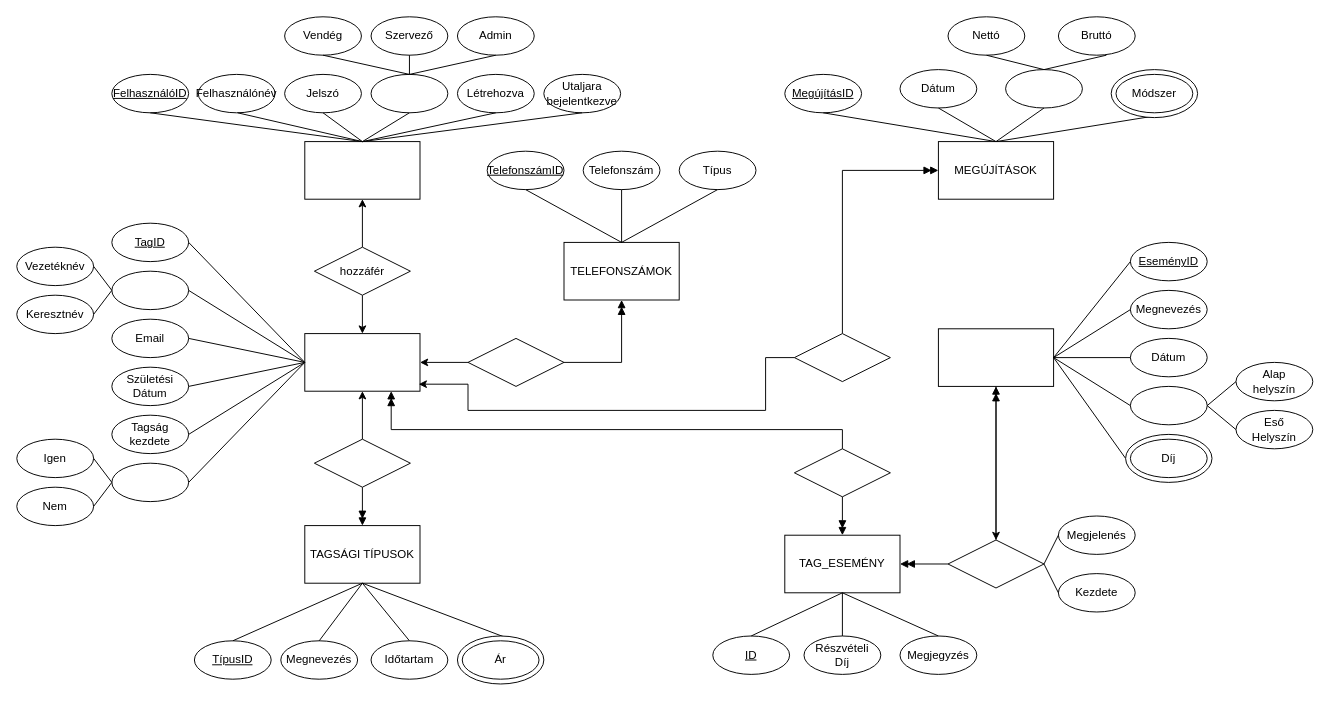
This 1330x701 diagram has some shape labels left out. Each missing label, with the box of its shape:
Aktív: (111, 462, 189, 502)
ESEMÉNYEK: (937, 328, 1054, 386)
FELHASZNÁLÓK: (304, 141, 420, 199)
Helyszín: (1129, 385, 1207, 425)
kapcsolódik: (947, 539, 1044, 588)
megújít: (793, 333, 890, 382)
Név: (111, 270, 189, 310)
rendelkezik: (467, 337, 564, 386)
részt vesz: (793, 448, 890, 497)
Szerepkör: (370, 73, 448, 113)
TAGOK: (304, 333, 420, 391)
tartozik: (313, 438, 410, 487)
Összeg: (1005, 69, 1082, 108)
